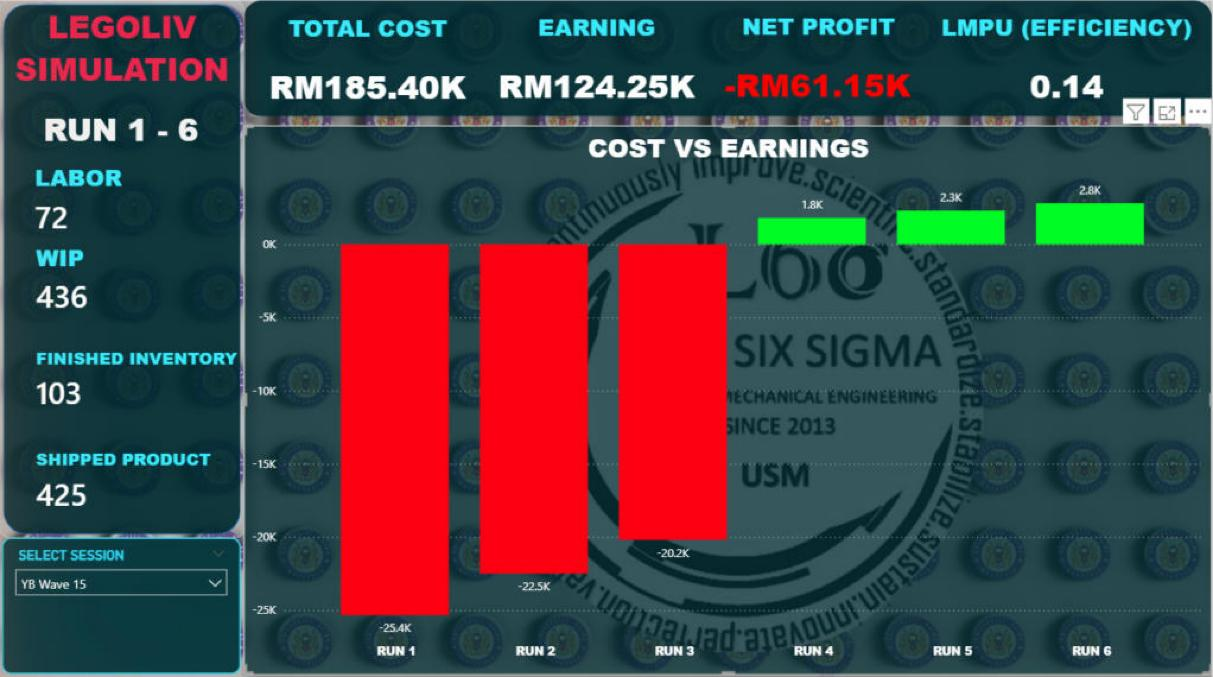

The page's visual inventory and layout, read from the dashboard file:
{"tool":"powerbi","page":{"name":"Page 1","canvas":[1280,720],"ordinal":0},"visuals":[{"type":"shape","box":[258.8,0,1021.1,122.3],"z":0},{"type":"shape","box":[1.2,0,258.2,566.8],"z":1000},{"type":"cardVisual","fields":{"Data":["Sum(RealTimeData.WIP_Qty)"]},"box":[10.3,241.3,256.6,104.8],"z":2000},{"type":"clusteredColumnChart","title":"COST VS EARNINGS","fields":{"Category":["RealTimeData.Run_Label"],"Y":["Sum(RealTimeData.Profit)"]},"box":[259,131.3,1020.7,578.9],"z":3000},{"type":"cardVisual","title":"TOTAL COST","fields":{"Data":["RealTimeData.Cost RM"]},"box":[234.4,11.7,309.4,120.7],"z":4000},{"type":"textbox","box":[1.2,0,258.2,100.9],"z":5000},{"type":"cardVisual","fields":{"Data":["RealTimeData.Smart Title"]},"box":[3.8,101.3,251.8,67.5],"z":6000},{"type":"cardVisual","fields":{"Data":["Sum(RealTimeData.Finished_Qty)"]},"box":[10.3,346.2,293,105.5],"z":7000},{"type":"cardVisual","fields":{"Data":["Sum(RealTimeData.Shipped_Qty)"]},"box":[10.3,452.2,256.6,106],"z":8000},{"type":"cardVisual","title":"EARNING","fields":{"Data":["RealTimeData.Earnings RM"]},"box":[477,10.5,308.2,121.9],"z":9000},{"type":"cardVisual","title":"LMPU (EFFICIENCY)","fields":{"Data":["RealTimeData.LMPU Final"]},"box":[985.6,10.5,281.3,121.9],"z":10000},{"type":"cardVisual","title":"NET PROFIT","fields":{"Data":["RealTimeData.Profit RM"]},"box":[716,9.4,298.8,121.9],"z":11000},{"type":"cardVisual","fields":{"Data":["Sum(RealTimeData.Labor_Qty)"]},"box":[9.4,157,256.6,104.3],"z":12000},{"type":"slicer","fields":{"Values":["RealTimeData.Session"]},"box":[3.5,566,252,144.1],"z":13000}]}

Visuals, with their boxes in screenshot pixels (x1, y1, x2, y2), scaled from the page's 1280x720 canvas onto the 1213x677 screenshot:
shape: region(245, 0, 1212, 115)
shape: region(1, 0, 246, 533)
cardVisual - Sum(RealTimeData.WIP_Qty): region(10, 227, 253, 325)
"COST VS EARNINGS" clusteredColumnChart: region(245, 123, 1212, 668)
"TOTAL COST" cardVisual: region(222, 11, 515, 124)
textbox: region(1, 0, 246, 95)
cardVisual - RealTimeData.Smart Title: region(4, 95, 242, 159)
cardVisual - Sum(RealTimeData.Finished_Qty): region(10, 326, 287, 425)
cardVisual - Sum(RealTimeData.Shipped_Qty): region(10, 425, 253, 525)
"EARNING" cardVisual: region(452, 10, 744, 124)
"LMPU (EFFICIENCY)" cardVisual: region(934, 10, 1201, 124)
"NET PROFIT" cardVisual: region(679, 9, 962, 123)
cardVisual - Sum(RealTimeData.Labor_Qty): region(9, 148, 252, 246)
slicer - RealTimeData.Session: region(3, 532, 242, 668)
